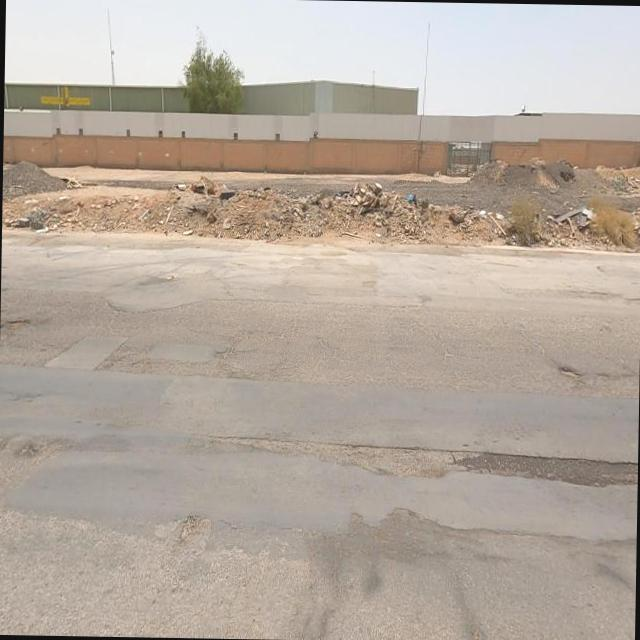debris: (520, 172, 632, 270), (136, 148, 248, 238), (366, 160, 460, 258), (314, 145, 408, 240), (452, 182, 528, 266)
